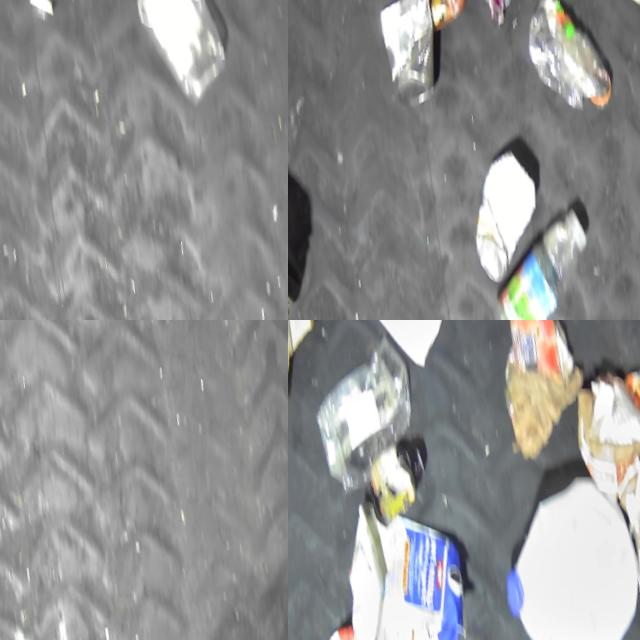can: (460, 132, 563, 285), (369, 0, 455, 110), (394, 0, 482, 35)
milk_jug: (481, 448, 640, 640)
non_white_jug: (330, 475, 494, 640)
plastic_bottle: (474, 184, 622, 320), (91, 0, 252, 113), (513, 0, 629, 118)
